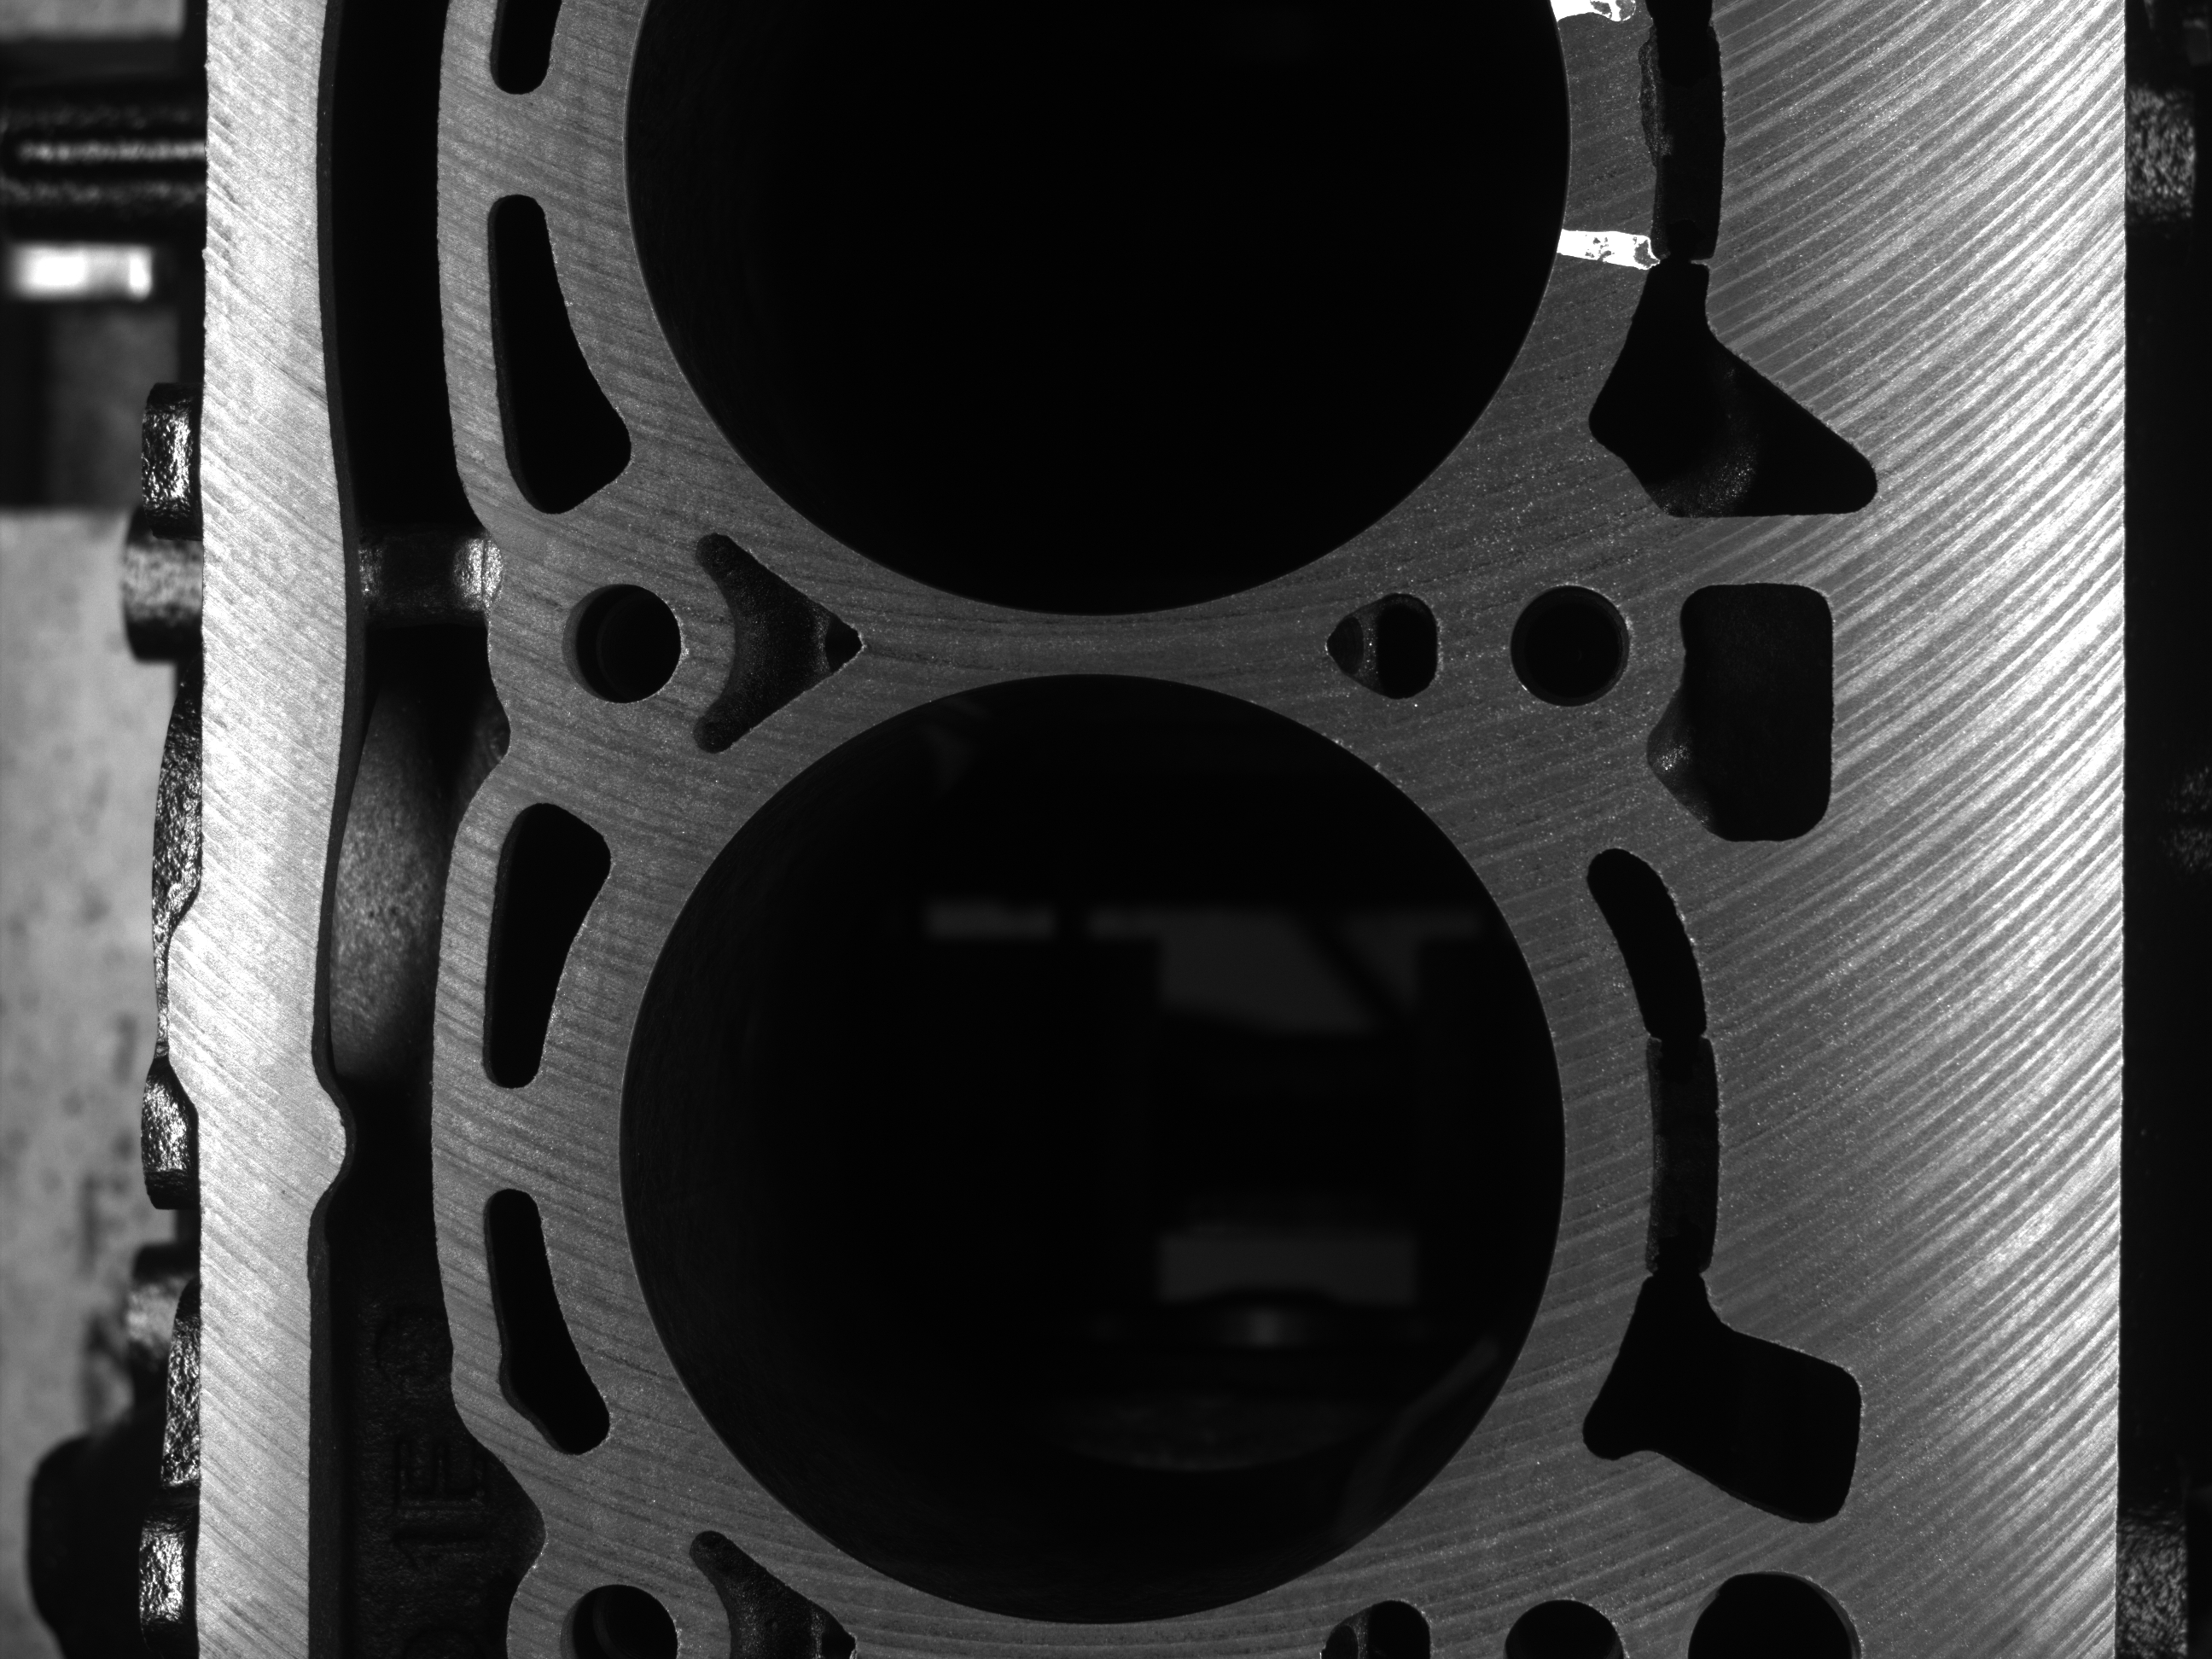shrinkage: (1629, 5, 1670, 164)
